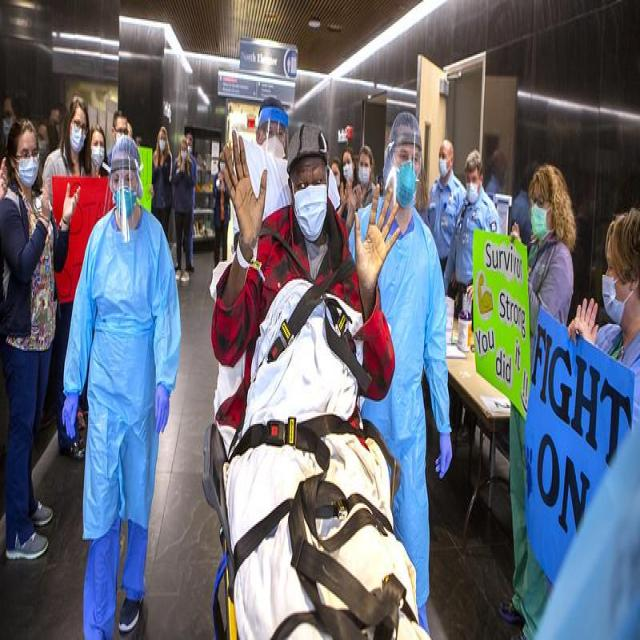Coverall: (59, 139, 183, 639), (351, 108, 455, 610)
Mask: (294, 184, 329, 238), (600, 273, 626, 327), (396, 162, 417, 210), (113, 187, 137, 221), (19, 156, 43, 188), (261, 135, 286, 162), (530, 205, 548, 240), (69, 127, 86, 154), (464, 180, 478, 200), (90, 148, 103, 164), (438, 161, 447, 180)
